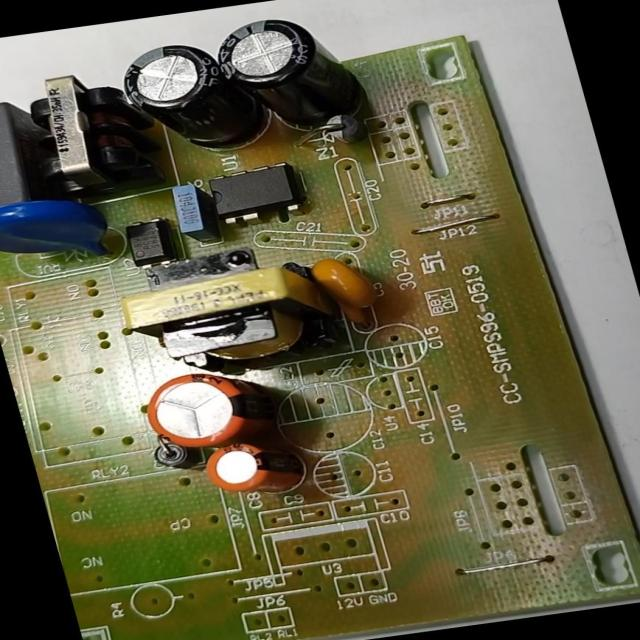Cap1: (134, 362, 288, 454)
Cap2: (199, 434, 313, 502)
Cap3: (114, 38, 241, 158)
Cap4: (211, 10, 365, 140)
MOSFET: (202, 160, 305, 228)
Mov: (0, 189, 116, 274)
Transformer: (112, 245, 335, 382), (12, 68, 150, 195)
